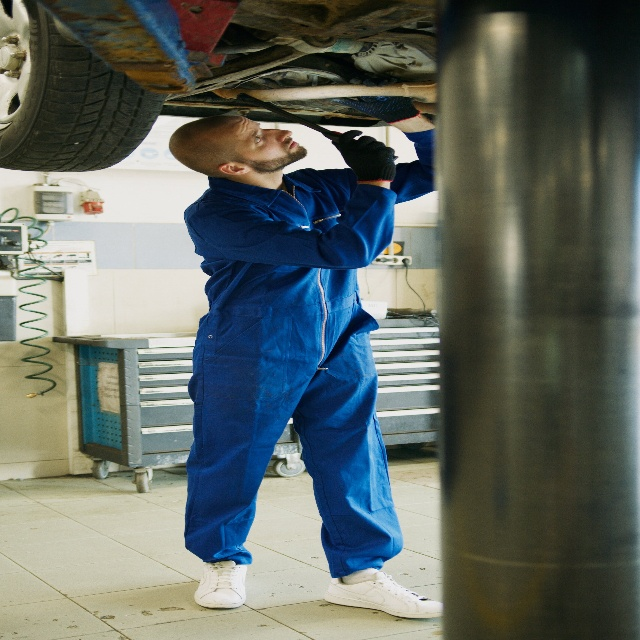Guantes: (331, 130, 396, 183), (329, 95, 420, 124)
